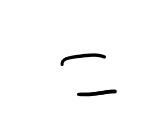eqv: (55, 47, 118, 99)
